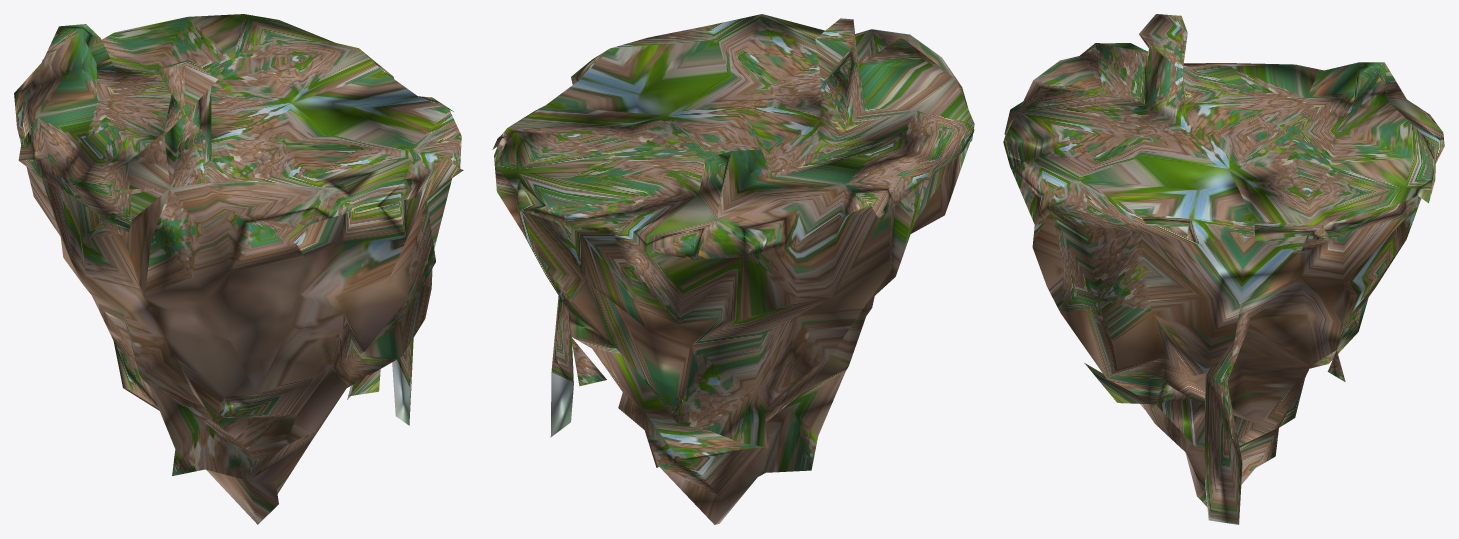
The model's file is cloud-sky-island-far-BBNBENlA.glb.
3 views of the same model, side by side, from view 1: azimuth 30°, elevation 25°; view 2: azimuth 150°, elevation 25°; view 3: azimuth 270°, elevation 25° (orthographic). The views are drawn at different scales.
Parts seen in each view (by area): view 1: tripo_node_5a8ac7e1-7165-4aa9-9d0a-2485935972a5; view 2: tripo_node_5a8ac7e1-7165-4aa9-9d0a-2485935972a5; view 3: tripo_node_5a8ac7e1-7165-4aa9-9d0a-2485935972a5.
Boxes of the visible parts, <box> form: tripo_node_5a8ac7e1-7165-4aa9-9d0a-2485935972a5: <box>14,14,463,524</box>; tripo_node_5a8ac7e1-7165-4aa9-9d0a-2485935972a5: <box>492,14,974,524</box>; tripo_node_5a8ac7e1-7165-4aa9-9d0a-2485935972a5: <box>1003,14,1444,524</box>.
Bounding box in the file's own units: 0.74 × 0.9796 × 0.8653.
Materials: 1 (1 with a texture image).
